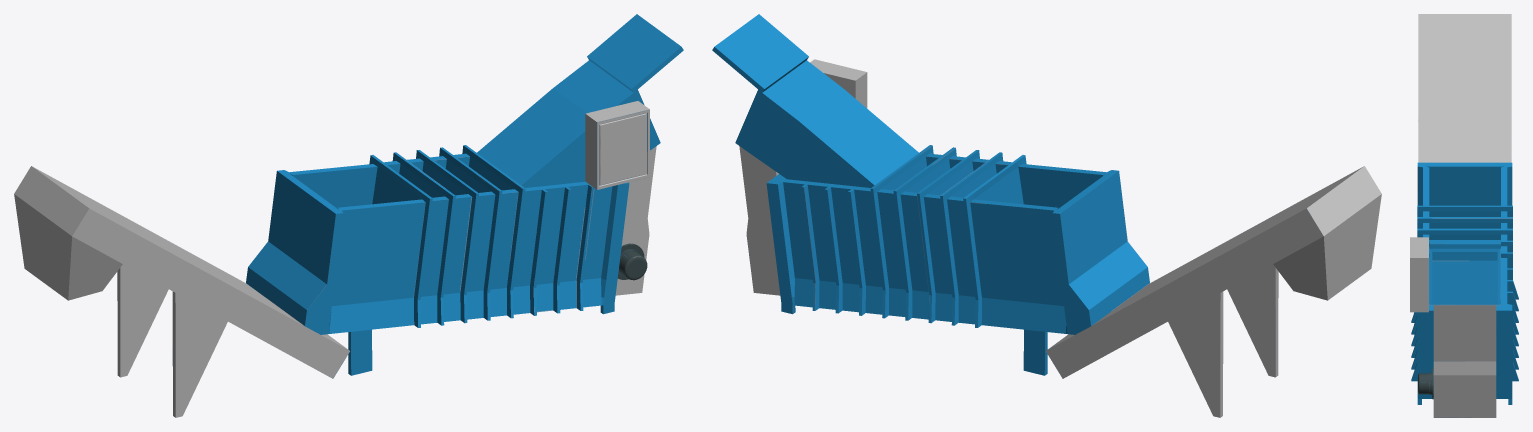
File: compactadora.fbx
3 views of the same model, side by side, from view 1: azimuth 30°, elevation 25°; view 2: azimuth 150°, elevation 25°; view 3: azimuth 270°, elevation 25° (orthographic). The views are drawn at different scales.
Visible parts, largest first — view 1: Cube.002; view 2: Cube.002; view 3: Cube.002.
Part boxes in pixels (x1,y1,x2,y2): Cube.002: (14,14,683,417); Cube.002: (712,14,1381,417); Cube.002: (1410,14,1518,417).
Bounding box in the file's own units: 1828 × 682 × 347.
Materials: 1 (1 with a texture image).
